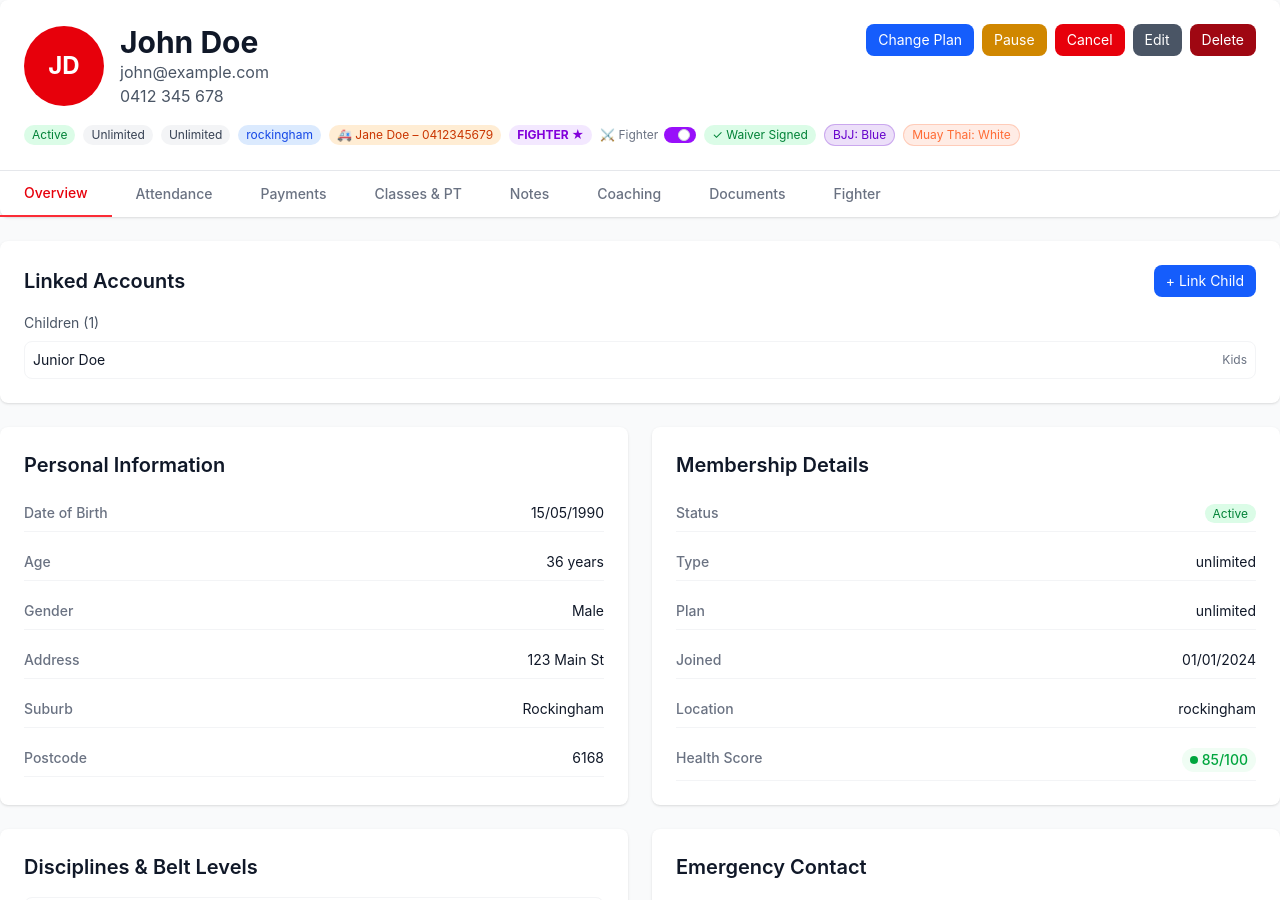
Test: MemberProfile Page › opens Cancel dialog when Cancel button is clicked
Click the button "Cancel" at [1090, 40], box left=1055, top=24, right=1125, bottom=56
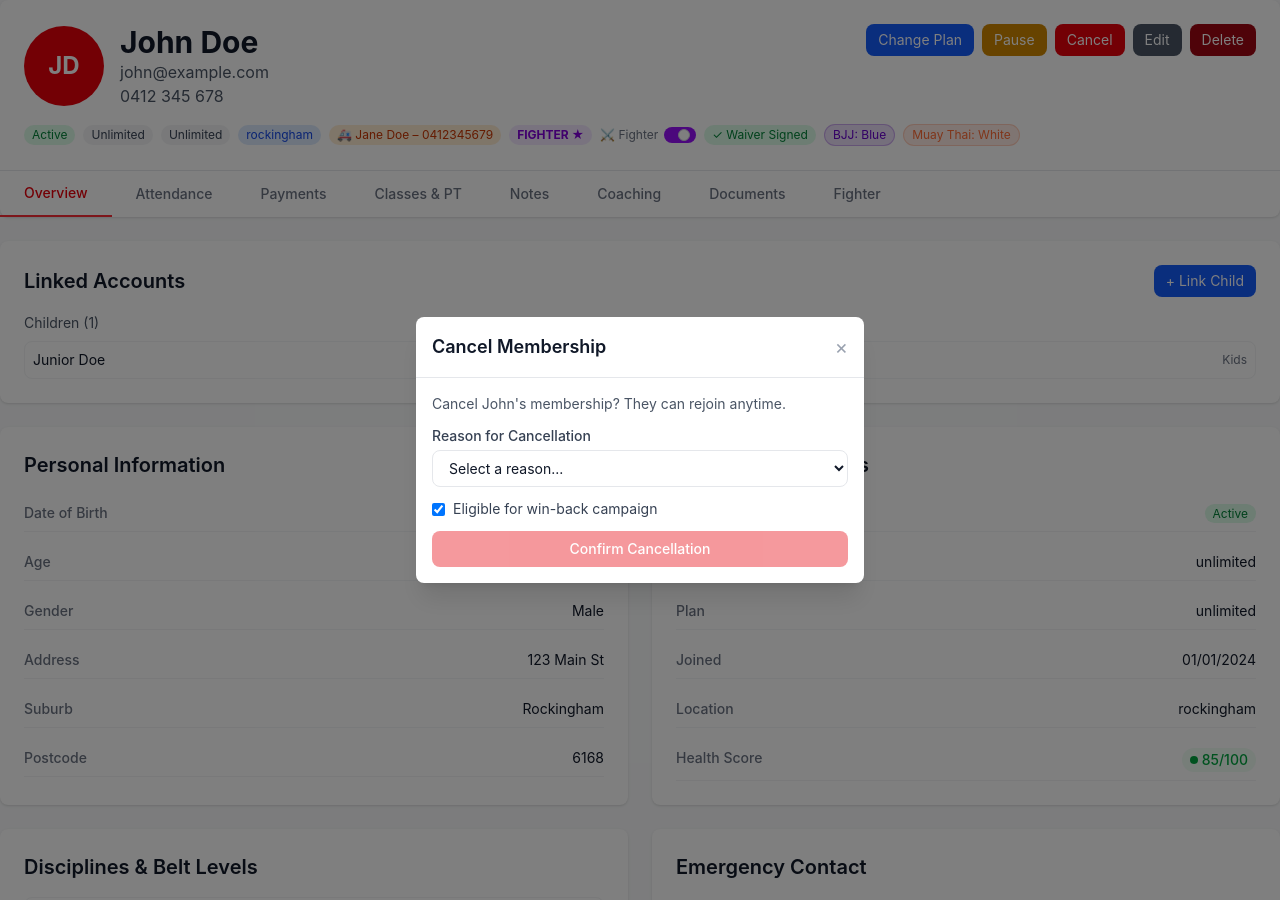
Now the heading "Cancel Membership" is shown, box left=432, top=333, right=606, bottom=361
